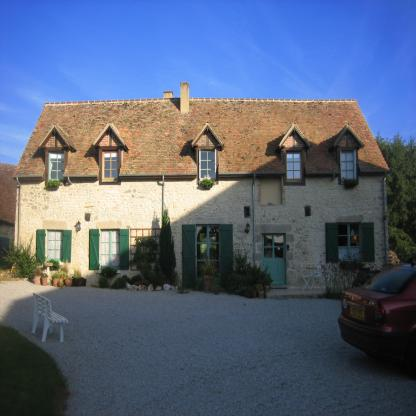Car: (339, 262, 416, 361)
